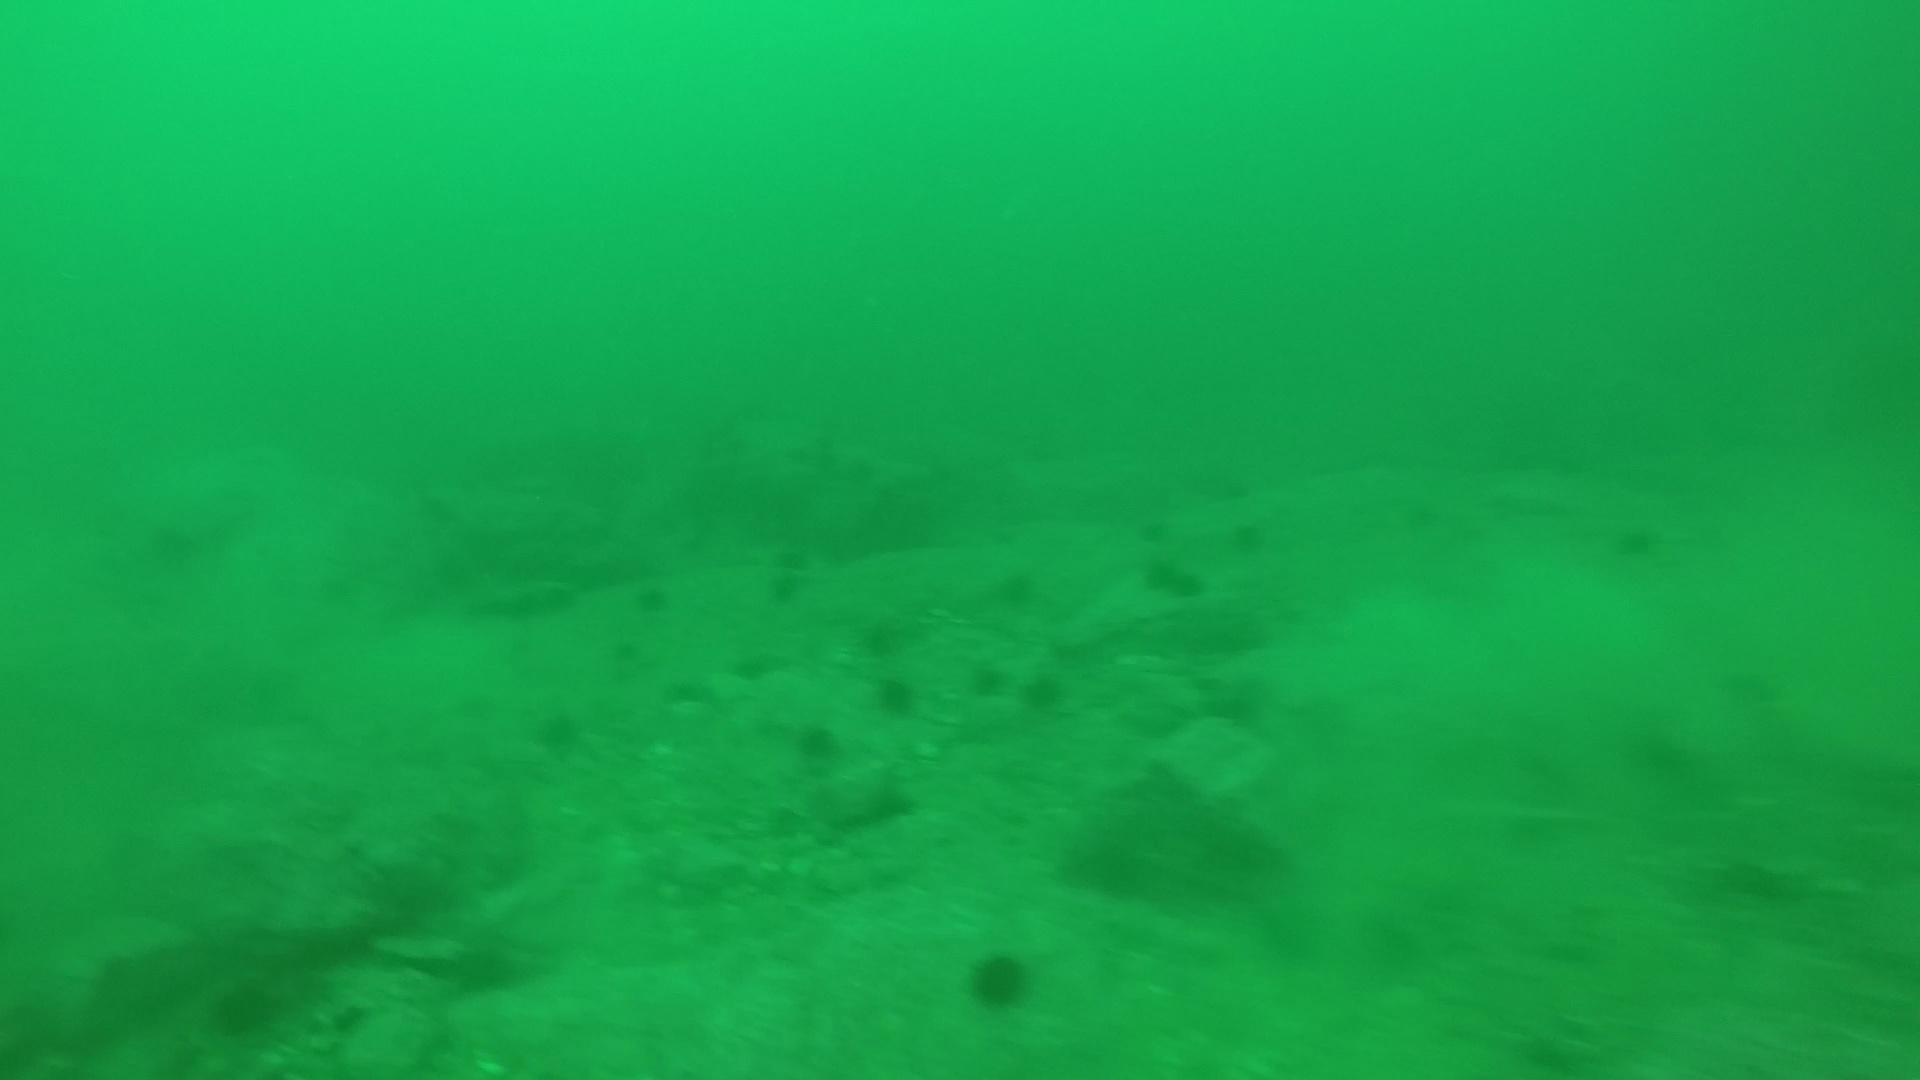echinus: (204, 973, 287, 1044), (961, 944, 1039, 1015), (527, 702, 588, 757), (626, 576, 686, 632), (837, 433, 897, 487), (866, 669, 923, 723), (789, 717, 847, 770), (1015, 666, 1073, 719), (960, 655, 1018, 708), (774, 545, 822, 582), (1164, 568, 1212, 605), (975, 520, 1022, 556), (1139, 559, 1187, 595), (1217, 469, 1265, 505), (733, 647, 781, 683), (673, 671, 720, 707), (1127, 514, 1174, 550), (1222, 524, 1269, 559), (607, 632, 653, 667), (1615, 525, 1662, 560), (769, 571, 807, 613), (862, 620, 901, 662), (997, 564, 1035, 607)
